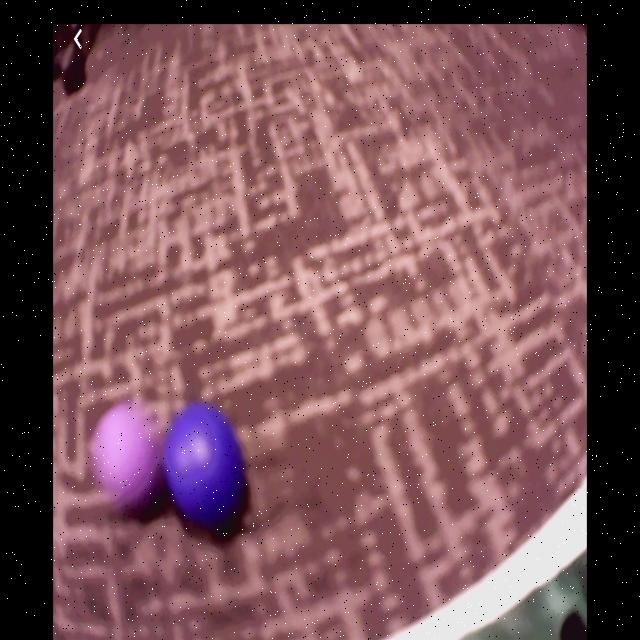ball: (169, 405, 244, 519), (91, 401, 163, 518)
